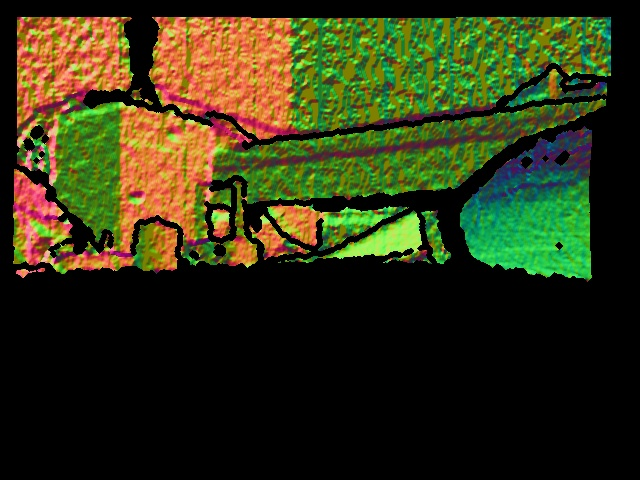station: (182, 179, 262, 269)
